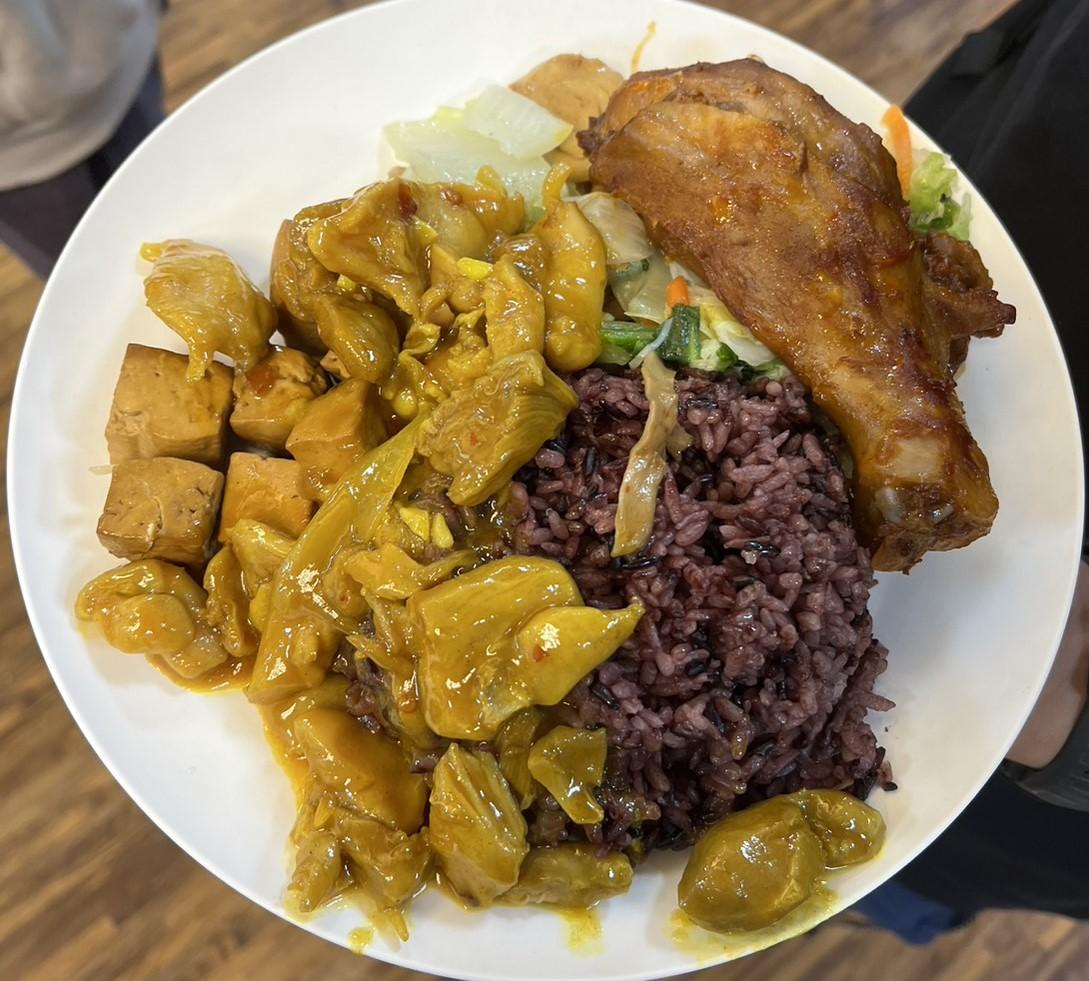big fried chicken leg: (12, 0, 1089, 981)
braised fish: (469, 374, 886, 845)
braised fish fillet: (589, 147, 973, 375), (104, 336, 323, 562), (385, 76, 568, 195)
braised pork: (98, 164, 630, 914), (582, 52, 998, 559)
